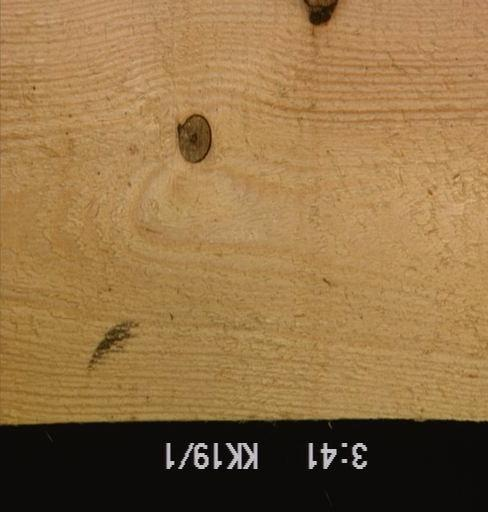dry_knot: (175, 111, 212, 163)
edge_knot: (301, 0, 339, 28)
